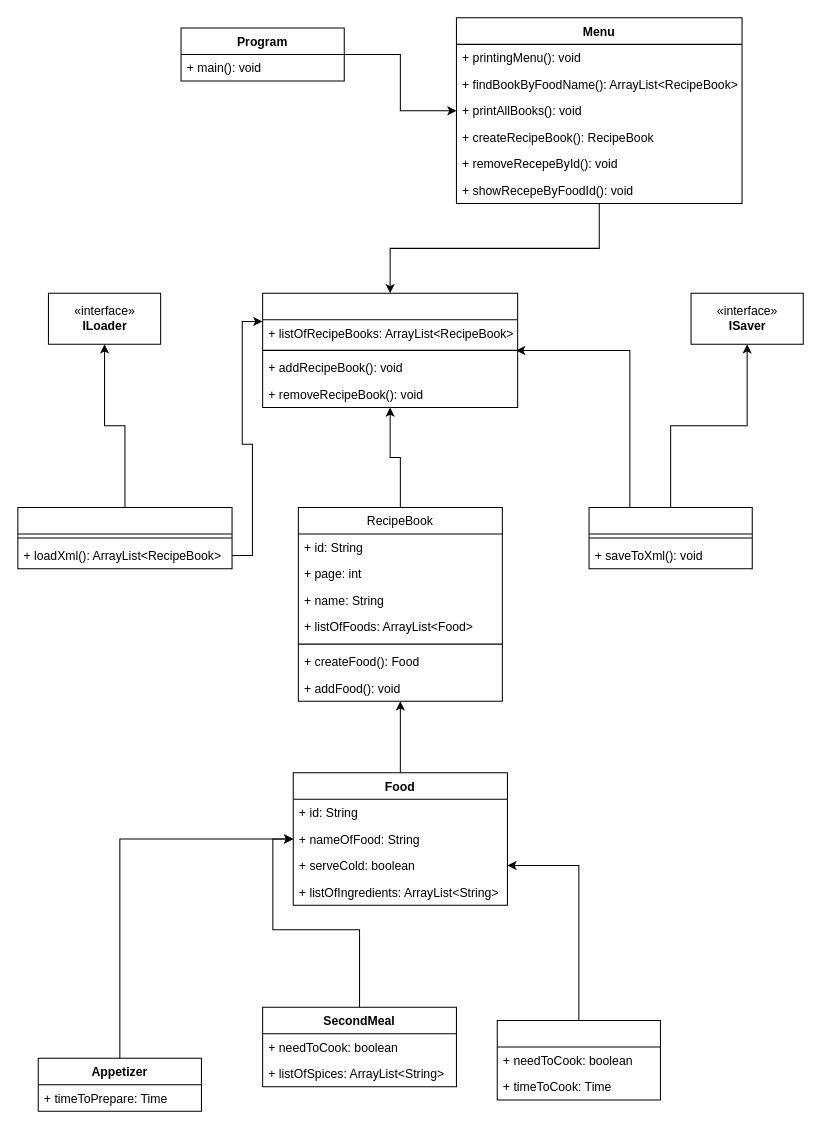
Image size: 821x1132. Some labels were removed from this diagram. The box of each missing label's shape, as (x1, y1, x2, y2) in pixels:
Dessert: (496, 1019, 660, 1100)
Store: (262, 292, 518, 407)
XmlLoader: (17, 506, 232, 569)
XmlSaver: (588, 506, 752, 569)
